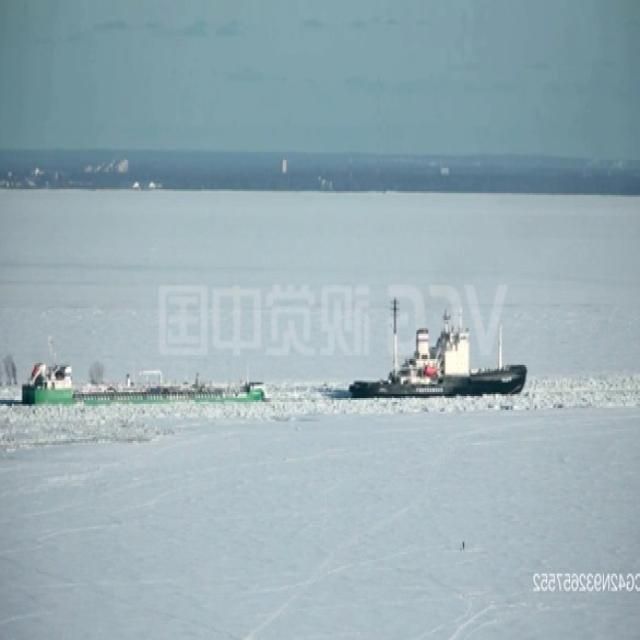cargoship: (18, 347, 270, 406)
houseboat: (328, 300, 531, 401)
